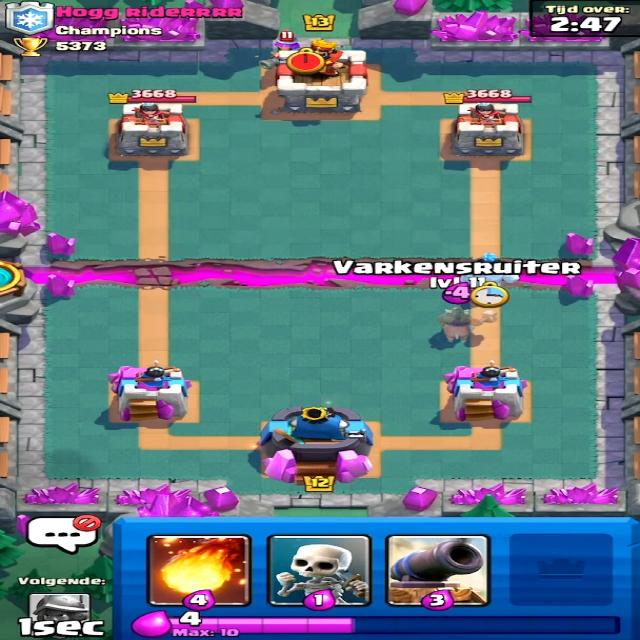Cannon_Card: (381, 535, 492, 608)
Fireball_Card: (151, 526, 254, 604)
Skeleton_Card: (274, 538, 372, 604)
